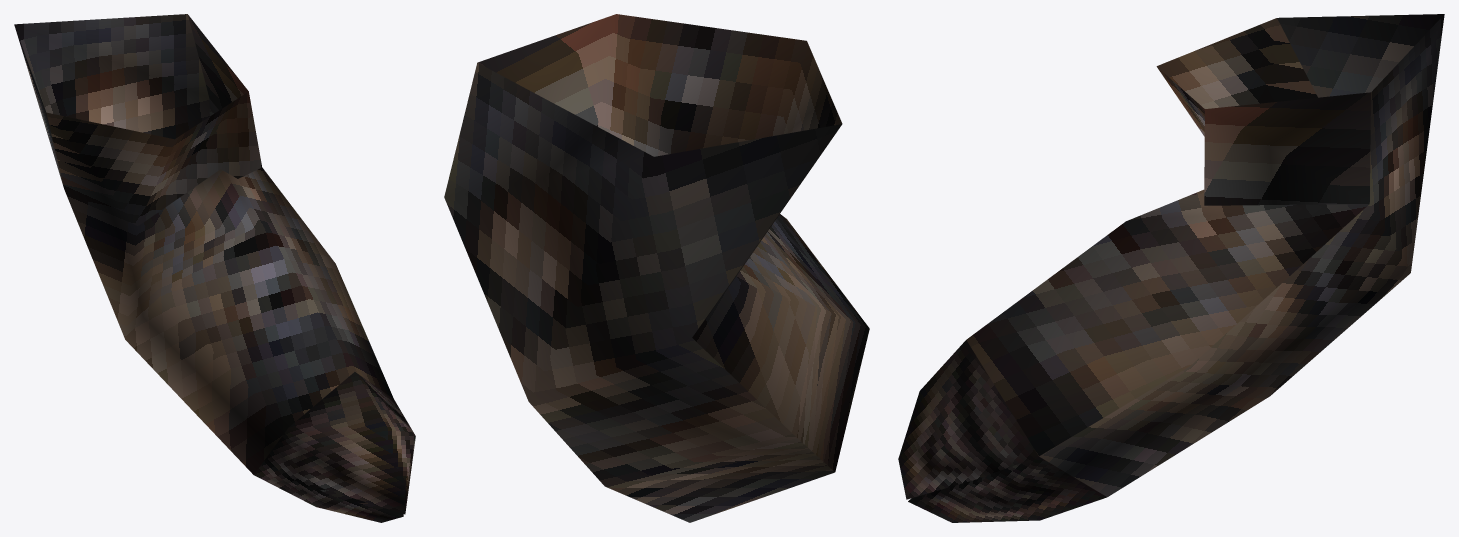
The model's file is aliengrunt_brazo_izq.obj.
The picture shows the model from 3 angles, left to right: view 1: azimuth 30°, elevation 25°; view 2: azimuth 150°, elevation 25°; view 3: azimuth 270°, elevation 25°; orthographic projection. The views are drawn at different scales.
Bounding box in the file's own units: 0.4913 × 0.7083 × 0.8167.
